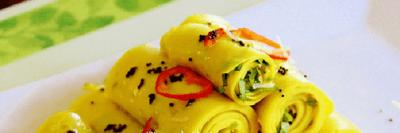khandvi: (53, 13, 346, 133)
